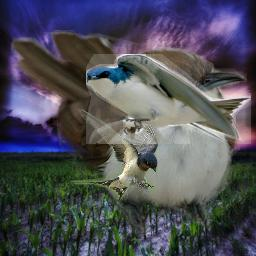Cuckoo: (11, 30, 247, 241)
Swallow: (86, 54, 251, 144), (71, 108, 158, 200)
